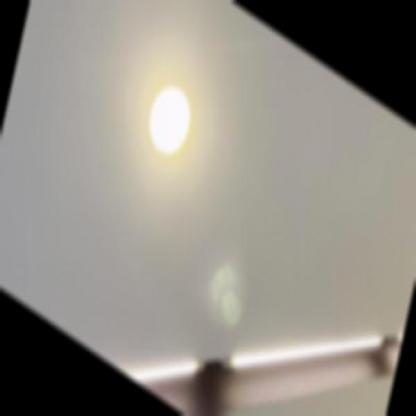light_on: (223, 240, 378, 415), (115, 300, 212, 415), (138, 56, 203, 187)
